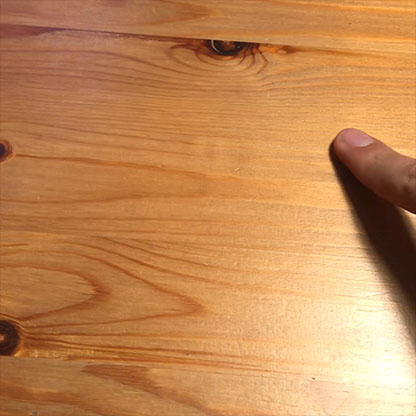fingertip: (326, 119, 384, 164)
